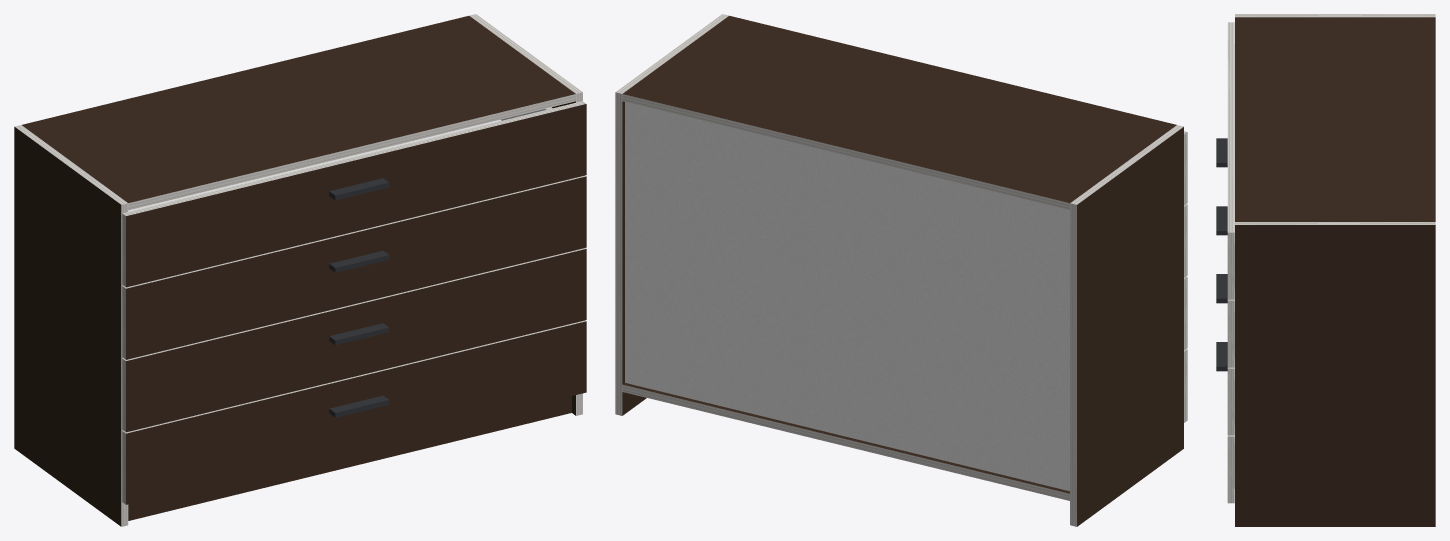
File: BIB-DRS-std.glb
The picture shows the model from 3 angles, left to right: view 1: azimuth 30°, elevation 25°; view 2: azimuth 150°, elevation 25°; view 3: azimuth 270°, elevation 25°; orthographic projection. The views are drawn at different scales.
Visible parts, largest first — view 1: top:pbr, side-l:pbr, d1-front:pbr, d2-front:pbr, d3-front:pbr, d4-front:pbr, plinth:pbr, top:sheet:eyJtIjoicGx5Iiwic2lkZSI6ImVkZ2UtbG9uZyIsInNlZWQiOj, pull, d4-front:sheet:eyJtIjoicGx5Iiwic2lkZSI6ImVkZ2UtbG9uZyIsInNlZ, d1-front:sheet:eyJtIjoicGx5Iiwic2lkZSI6ImVkZ2UtbG9uZyIsInNlZ, d2-front:sheet:eyJtIjoicGx5Iiwic2lkZSI6ImVkZ2UtbG9uZyIsInNlZ (+5 smaller); view 2: back:sheet:eyJtIjoibWRmIiwic2lkZSI6ImZhY2UiLCJzZWVkIjo0LCJ0a, top:pbr, side-l:pbr, top:sheet:eyJtIjoicGx5Iiwic2lkZSI6ImVkZ2UtbG9uZyIsInNlZWQiOj, bottom:sheet:eyJtIjoicGx5Iiwic2lkZSI6ImVkZ2UtbG9uZyIsInNlZWQ, side-r:sheet:eyJtIjoicGx5Iiwic2lkZSI6ImVkZ2UtbG9uZyIsInNlZWQ, side-l:sheet:eyJtIjoicGx5Iiwic2lkZSI6ImVkZ2UtbG9uZyIsInNlZWQ, bottom:pbr, side-r:pbr, side-r:sheet:eyJtIjoicGx5Iiwic2lkZSI6ImVkZ2UtZW5kIiwic2VlZCI, side-l:sheet:eyJtIjoicGx5Iiwic2lkZSI6ImVkZ2UtZW5kIiwic2VlZCI; view 3: side-r:pbr, top:pbr, d4-front:sheet:eyJtIjoicGx5Iiwic2lkZSI6ImVkZ2UtbG9uZyIsInNlZ, pull, side-l:sheet:eyJtIjoicGx5Iiwic2lkZSI6ImVkZ2UtZW5kIiwic2VlZCI, side-r:sheet:eyJtIjoicGx5Iiwic2lkZSI6ImVkZ2UtZW5kIiwic2VlZCI, d3-front:sheet:eyJtIjoicGx5Iiwic2lkZSI6ImVkZ2UtZW5kIiwic2VlZ, d4-front:sheet:eyJtIjoicGx5Iiwic2lkZSI6ImVkZ2UtZW5kIiwic2VlZ, d1-front:sheet:eyJtIjoicGx5Iiwic2lkZSI6ImVkZ2UtZW5kIiwic2VlZ, d2-front:sheet:eyJtIjoicGx5Iiwic2lkZSI6ImVkZ2UtZW5kIiwic2VlZ.
Boxes of the visible parts, x1=… form: top:pbr: x1=22, y1=16, x2=575, y2=202; side-l:pbr: x1=14, y1=127, x2=121, y2=526; d1-front:pbr: x1=126, y1=321, x2=586, y2=504; d2-front:pbr: x1=126, y1=249, x2=586, y2=432; d3-front:pbr: x1=126, y1=176, x2=586, y2=359; d4-front:pbr: x1=126, y1=104, x2=586, y2=287; plinth:pbr: x1=128, y1=396, x2=571, y2=520; top:sheet:eyJtIjoicGx5Iiwic2lkZSI6ImVkZ2UtbG9uZyIsInNlZWQiOj: x1=128, y1=94, x2=575, y2=210; pull: x1=329, y1=178, x2=389, y2=417; d4-front:sheet:eyJtIjoicGx5Iiwic2lkZSI6ImVkZ2UtbG9uZyIsInNlZ: x1=122, y1=101, x2=585, y2=215; d1-front:sheet:eyJtIjoicGx5Iiwic2lkZSI6ImVkZ2UtbG9uZyIsInNlZ: x1=122, y1=320, x2=585, y2=433; d2-front:sheet:eyJtIjoicGx5Iiwic2lkZSI6ImVkZ2UtbG9uZyIsInNlZ: x1=122, y1=248, x2=585, y2=360; back:sheet:eyJtIjoibWRmIiwic2lkZSI6ImZhY2UiLCJzZWVkIjo0LCJ0a: x1=625, y1=102, x2=1069, y2=491; top:pbr: x1=623, y1=15, x2=1176, y2=202; side-l:pbr: x1=1077, y1=127, x2=1183, y2=526; top:sheet:eyJtIjoicGx5Iiwic2lkZSI6ImVkZ2UtbG9uZyIsInNlZWQiOj: x1=622, y1=94, x2=1069, y2=210; bottom:sheet:eyJtIjoicGx5Iiwic2lkZSI6ImVkZ2UtbG9uZyIsInNlZWQ: x1=622, y1=384, x2=1069, y2=500; side-r:sheet:eyJtIjoicGx5Iiwic2lkZSI6ImVkZ2UtbG9uZyIsInNlZWQ: x1=615, y1=92, x2=622, y2=415; side-l:sheet:eyJtIjoicGx5Iiwic2lkZSI6ImVkZ2UtbG9uZyIsInNlZWQ: x1=1070, y1=203, x2=1076, y2=526; bottom:pbr: x1=623, y1=383, x2=1069, y2=493; side-r:pbr: x1=622, y1=101, x2=646, y2=415; side-r:sheet:eyJtIjoicGx5Iiwic2lkZSI6ImVkZ2UtZW5kIiwic2VlZCI: x1=616, y1=14, x2=728, y2=93; side-l:sheet:eyJtIjoicGx5Iiwic2lkZSI6ImVkZ2UtZW5kIiwic2VlZCI: x1=1070, y1=125, x2=1183, y2=204; side-r:pbr: x1=1235, y1=225, x2=1435, y2=526; top:pbr: x1=1235, y1=17, x2=1435, y2=221; d4-front:sheet:eyJtIjoicGx5Iiwic2lkZSI6ImVkZ2UtbG9uZyIsInNlZ: x1=1227, y1=22, x2=1234, y2=232; pull: x1=1216, y1=138, x2=1227, y2=371; side-l:sheet:eyJtIjoicGx5Iiwic2lkZSI6ImVkZ2UtZW5kIiwic2VlZCI: x1=1235, y1=14, x2=1435, y2=17; side-r:sheet:eyJtIjoicGx5Iiwic2lkZSI6ImVkZ2UtZW5kIiwic2VlZCI: x1=1235, y1=222, x2=1435, y2=224; d3-front:sheet:eyJtIjoicGx5Iiwic2lkZSI6ImVkZ2UtZW5kIiwic2VlZ: x1=1227, y1=300, x2=1234, y2=367; d4-front:sheet:eyJtIjoicGx5Iiwic2lkZSI6ImVkZ2UtZW5kIiwic2VlZ: x1=1227, y1=232, x2=1234, y2=299; d1-front:sheet:eyJtIjoicGx5Iiwic2lkZSI6ImVkZ2UtZW5kIiwic2VlZ: x1=1227, y1=436, x2=1234, y2=503; d2-front:sheet:eyJtIjoicGx5Iiwic2lkZSI6ImVkZ2UtZW5kIiwic2VlZ: x1=1227, y1=368, x2=1234, y2=435.
Size of the model in its own units: 1.2 by 0.8 by 0.527.
91 materials, 81 textured.
